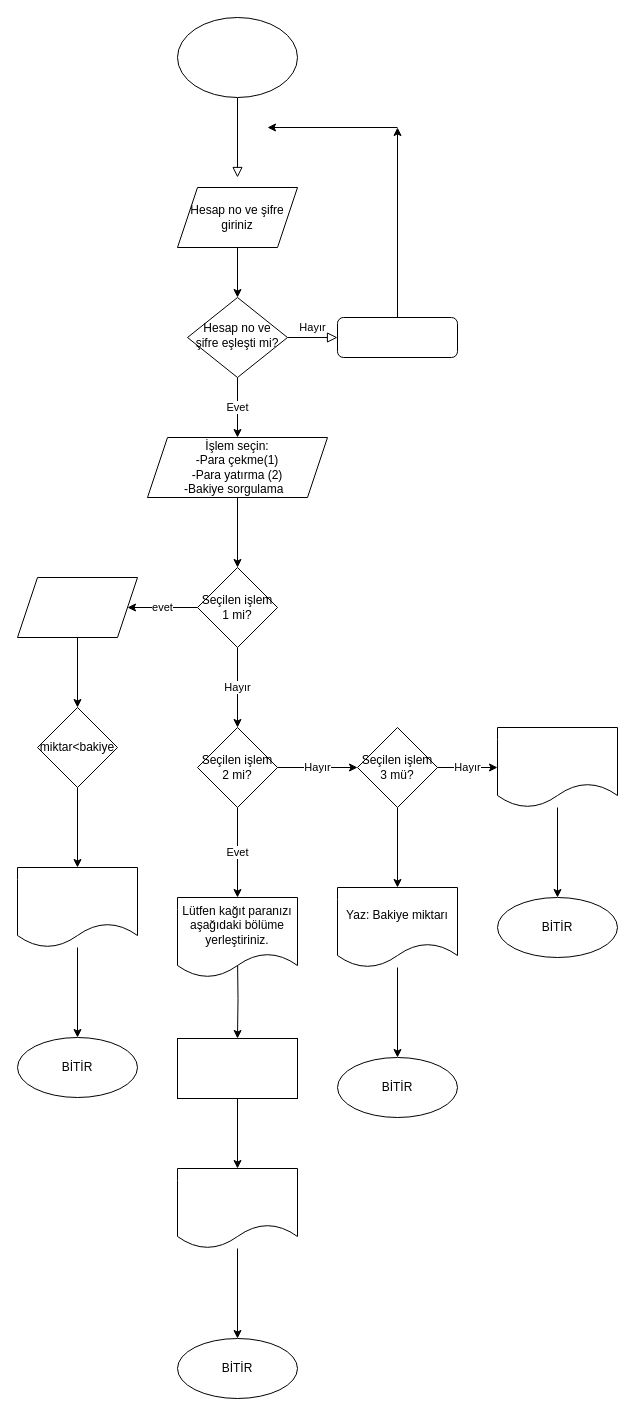
The diagram is 635 pixels wide and 1416 high, and some of its shapes have lost their labels. The centre of each missing label's shape, as x and y in pixels:
"Bakiye=bakiye+alınan miktar" goes at point (237, 1068).
"BAŞLA" goes at point (237, 57).
"Geçersiz giriş yapıldı." goes at point (557, 767).
"Girilen hesap no veya şifre hatalı" goes at point (397, 337).
"Paranızı alttaki bölümden alınız." goes at point (77, 907).
"Yaz: İşleminiz başarıyla gerçekleştirildi." goes at point (237, 1208).
"Çekmek istediğiniz miktarı girin" goes at point (77, 607).
